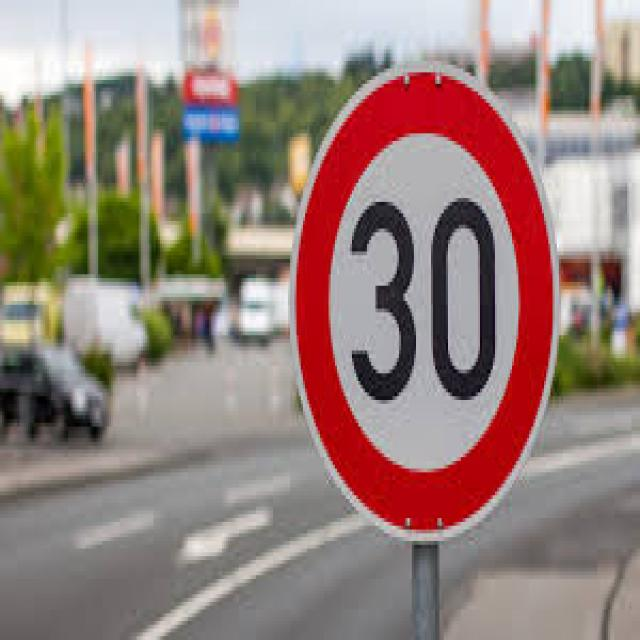Speed limit 30: (289, 62, 562, 546)
